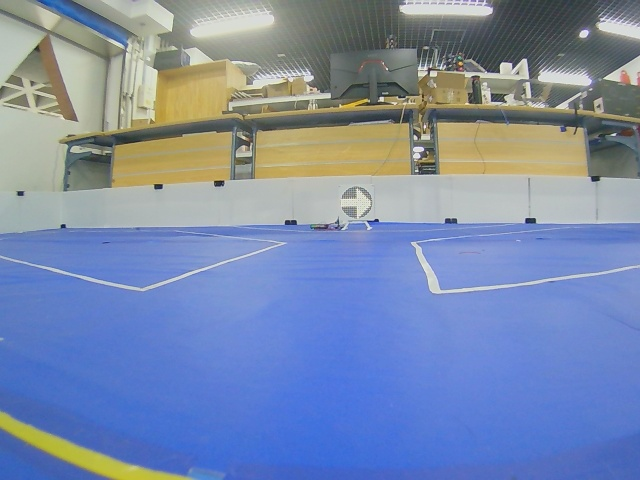right_yellow: (340, 186, 373, 219)
